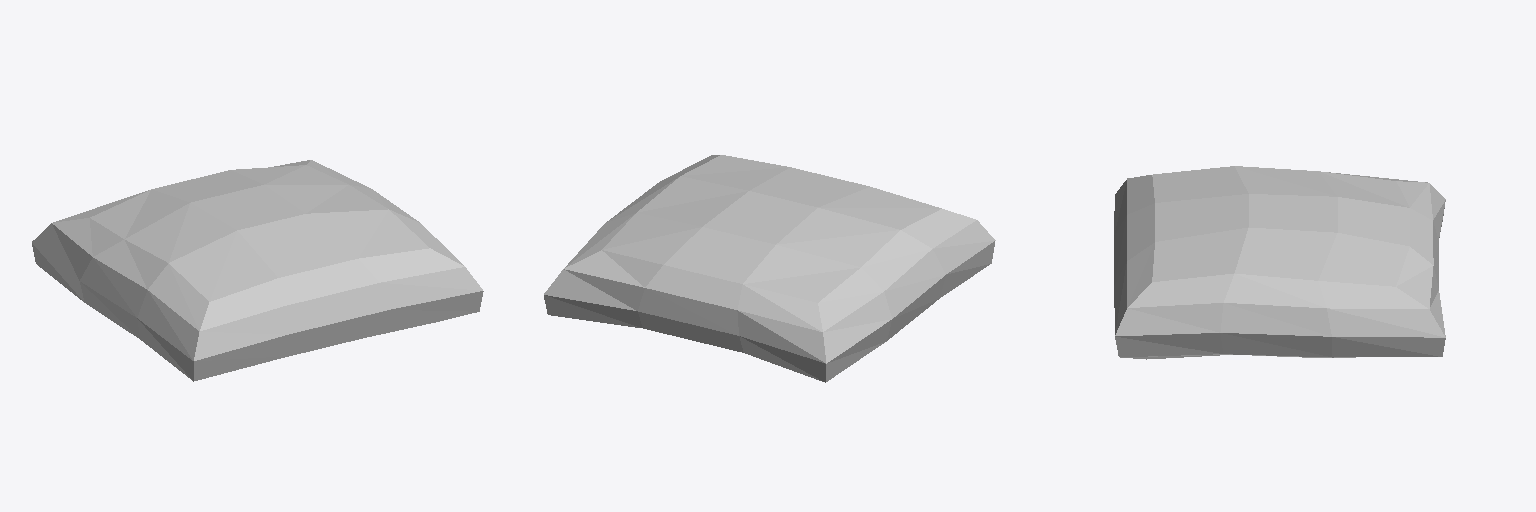
The model's file is pillow02.obj.
3 views of the same model, side by side, from view 1: azimuth 30°, elevation 25°; view 2: azimuth 150°, elevation 25°; view 3: azimuth 270°, elevation 25° (orthographic).
Visible parts, largest first — view 1: Cube_Cube.001; view 2: Cube_Cube.001; view 3: Cube_Cube.001.
Boxes of the visible parts, <box> form: Cube_Cube.001: <box>32,160,483,381</box>; Cube_Cube.001: <box>544,155,995,382</box>; Cube_Cube.001: <box>1114,166,1445,359</box>.
Bounding box in the file's own units: 0.3741 × 0.1078 × 0.3575.